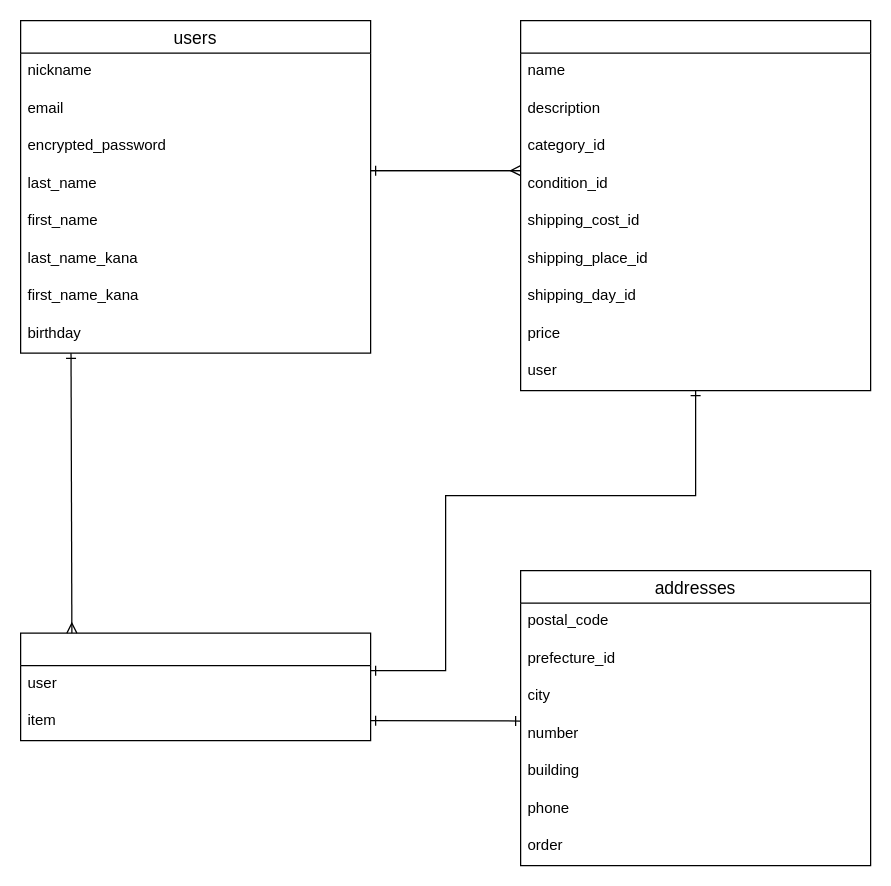
Some shapes in this 891 by 886 pixel diagram are drawn without their labels. Here are the shapes that lost their labels. From the top down, the box of each, then its label:
(519, 19, 871, 391): items
(19, 632, 371, 741): orders
